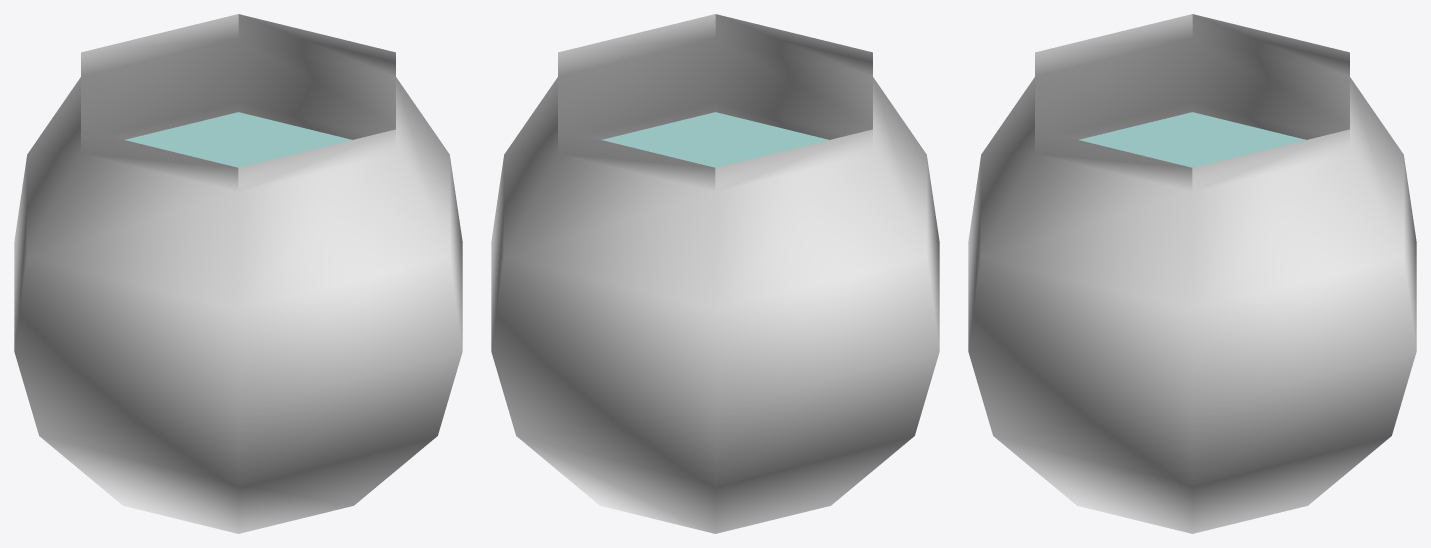
Rendered from aquarium-de-poche.glb.
The picture shows the model from 3 angles, left to right: view 1: azimuth 30°, elevation 25°; view 2: azimuth 150°, elevation 25°; view 3: azimuth 270°, elevation 25°; orthographic projection.
Visible parts, largest first — view 1: Bowl, Water; view 2: Bowl, Water; view 3: Bowl, Water.
Boxes of the visible parts, left/top/right/bottom form: Bowl: left=14, top=14, right=462, bottom=533; Water: left=125, top=112, right=351, bottom=167; Bowl: left=491, top=14, right=939, bottom=533; Water: left=602, top=112, right=828, bottom=167; Bowl: left=968, top=14, right=1416, bottom=533; Water: left=1079, top=112, right=1305, bottom=167.
Size of the model in its own units: 0.4203 by 0.3464 by 0.364.
